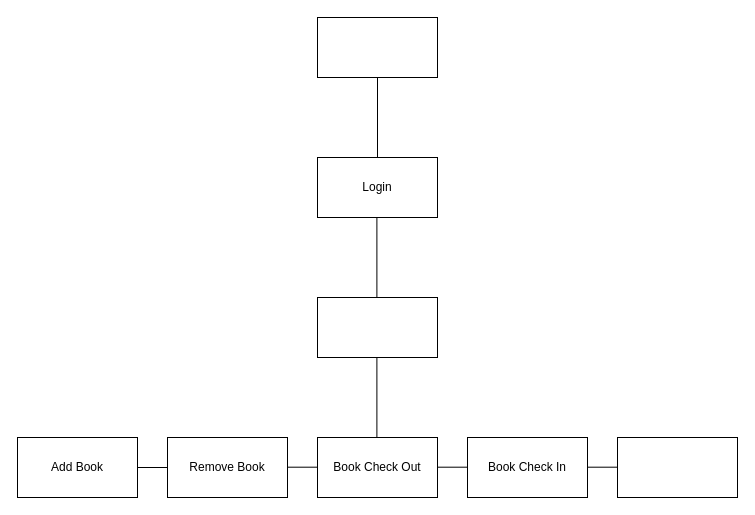
This 755x515 diagram has some shape labels left out. Here are the shapes that lost their labels. From the top down, the centre of each, then its label:
point 377,47: Library Management System
point 377,327: Dashboard
point 677,467: Search Book
